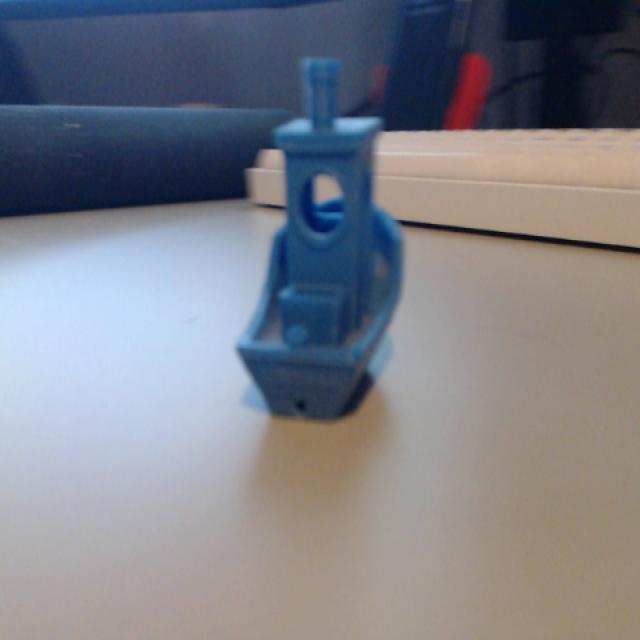benchy: (232, 52, 407, 423)
